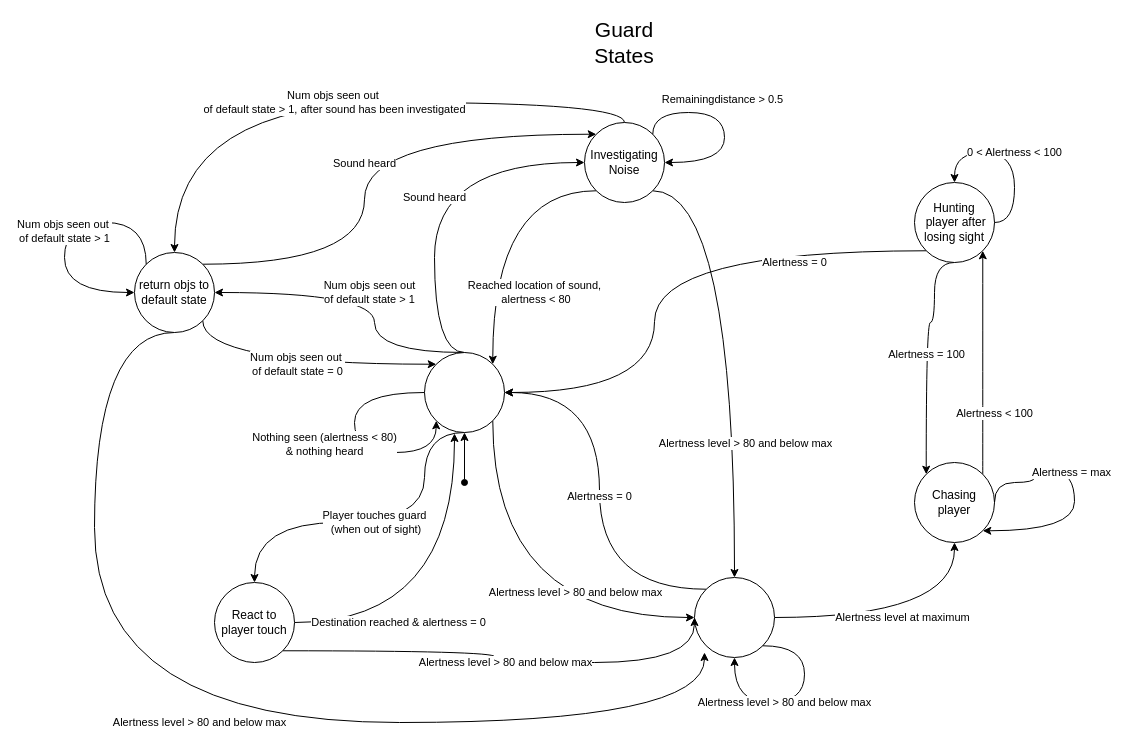
The diagram is 1128 pixels wide and 746 high, and some of its shapes have lost their labels. Here are the shapes that lost their labels. From the top down, the box of each, then its label:
(424, 352, 504, 432): Default / go to next waypoint
(694, 576, 774, 658): Investigating sighting of player
